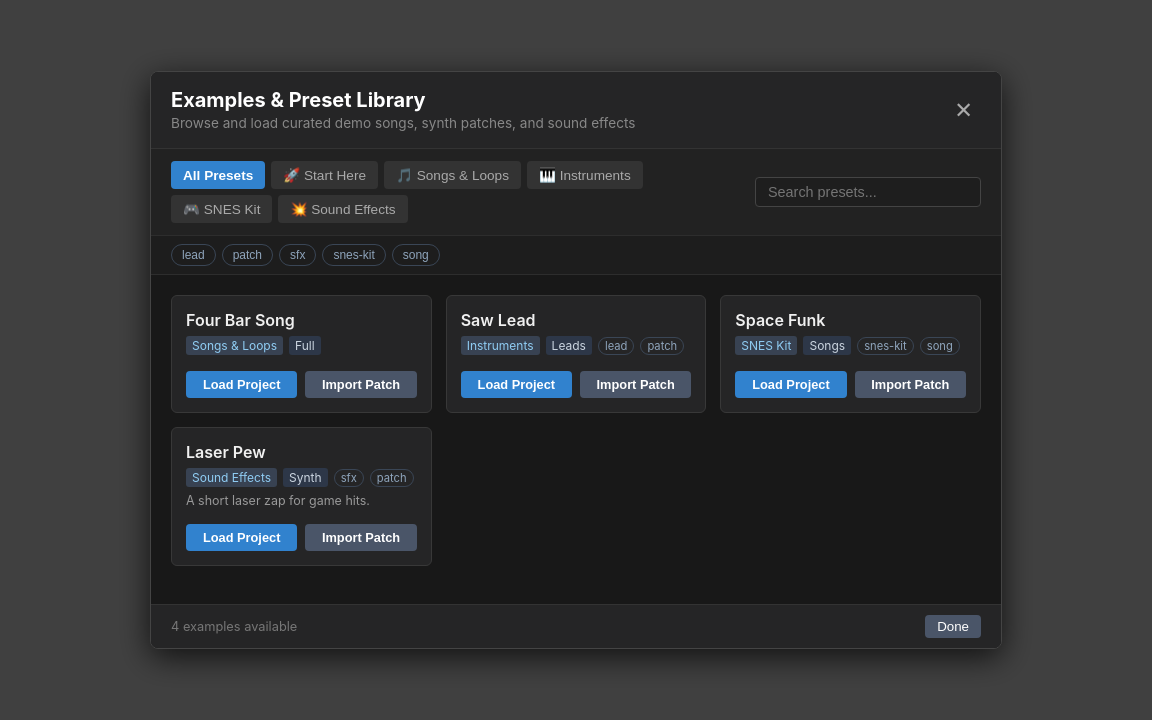
ExamplesModal › filters examples by category tab
Expected: the text "Four Bar Song" is shown, left=186, top=310, right=295, bottom=330
Click the button "💥 Sound Effects".
click(343, 209)  # box left=278, top=195, right=408, bottom=223
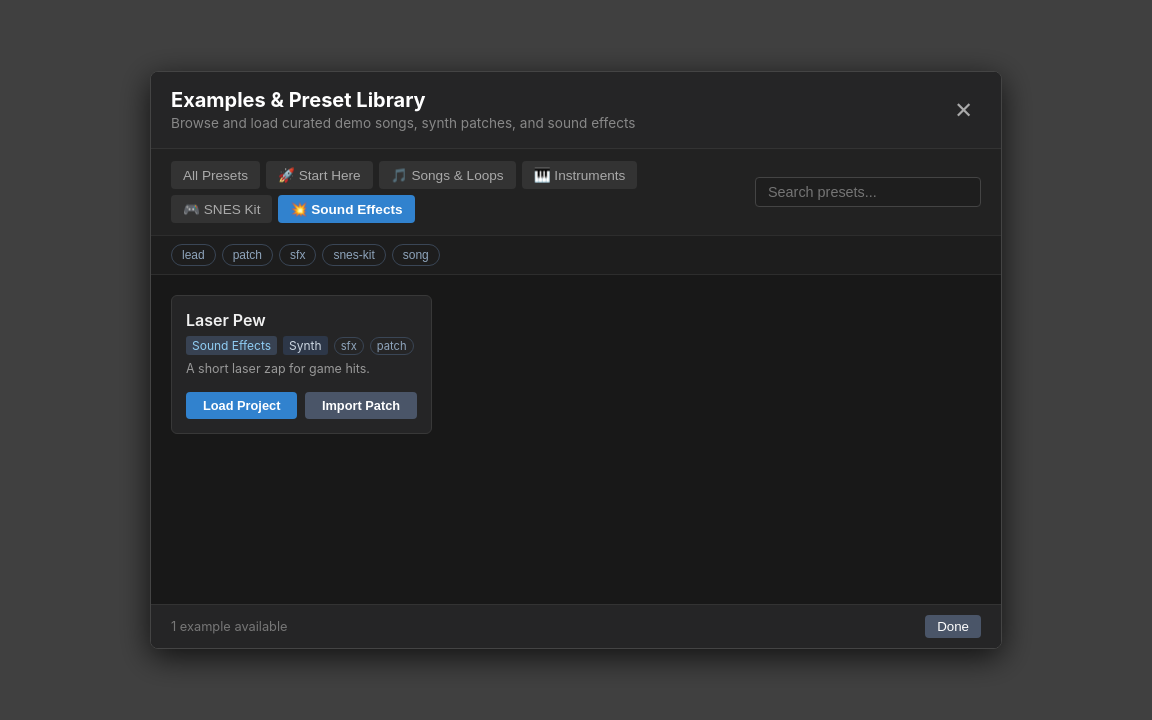
Expected: the text "Laser Pew" is shown, left=186, top=310, right=266, bottom=330
Expected: the text "Four Bar Song" is gone
Expected: the text "Saw Lead" is gone
